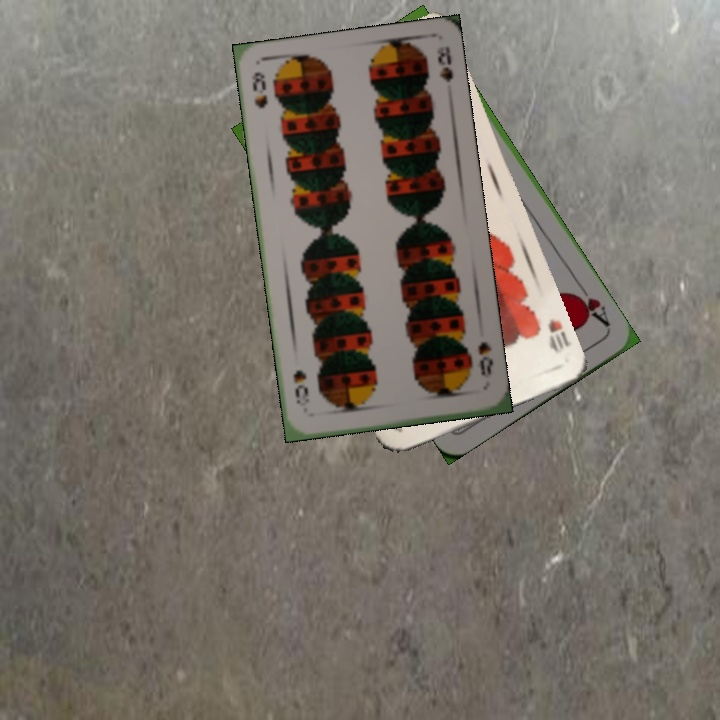H10: (544, 314, 574, 356)
HA: (568, 279, 613, 330)
S8: (248, 68, 271, 111), (474, 337, 496, 380)
